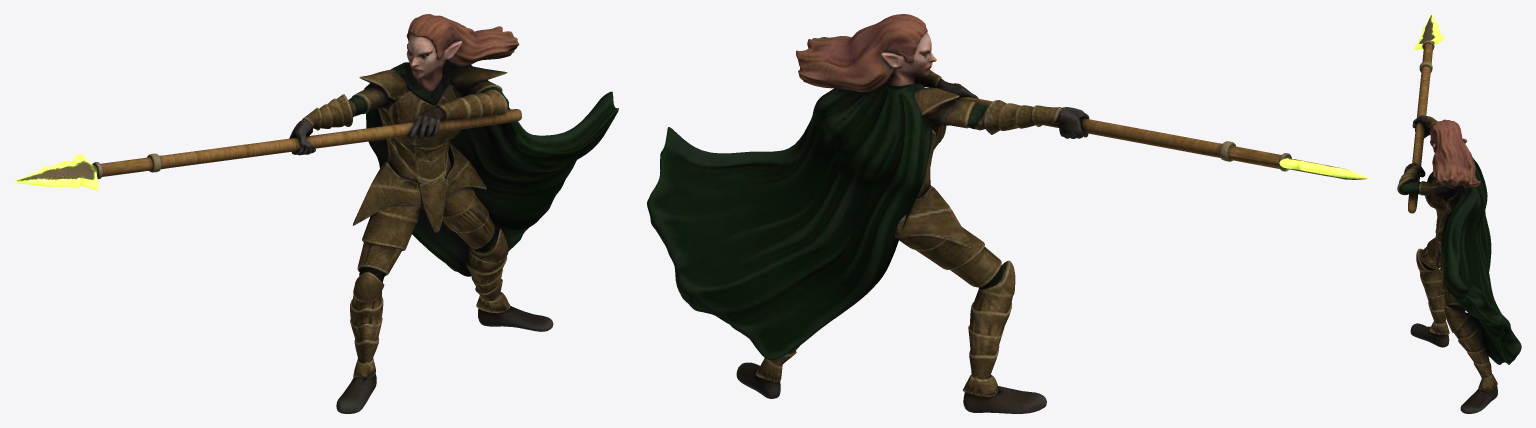
Rendered from MZ4250 - Drow Inquisitor_Alt2.glb.
3 renders of one model, left to right at view 1: azimuth 30°, elevation 25°; view 2: azimuth 150°, elevation 25°; view 3: azimuth 270°, elevation 25°, orthographic. The views are drawn at different scales.
Parts seen in each view (by area): view 1: Body.002; view 2: Body.002; view 3: Body.002.
Boxes of the visible parts, x1=… form: Body.002: x1=14, y1=14, x2=618, y2=413; Body.002: x1=647, y1=14, x2=1368, y2=413; Body.002: x1=1397, y1=14, x2=1521, y2=413.
Size of the model in its own units: 161 by 86.29 by 39.45.
Materials: 1 (1 with a texture image).
